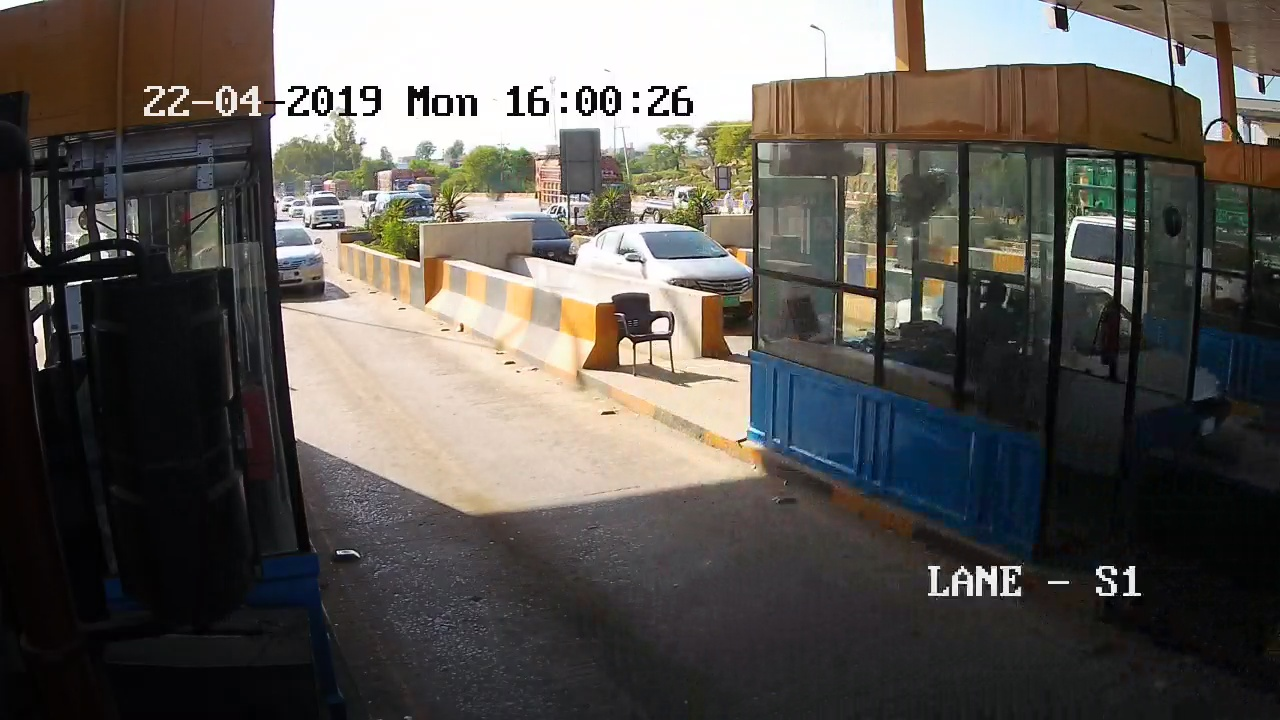car: (275, 217, 338, 307)
